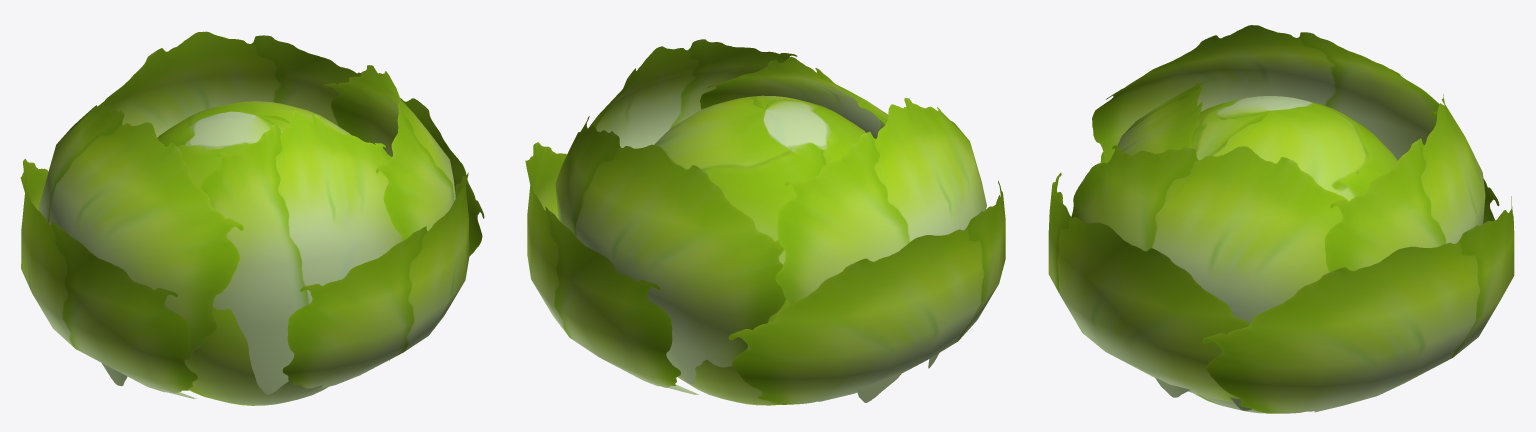
File: SM_Sla.fbx
The picture shows the model from 3 angles, left to right: view 1: azimuth 30°, elevation 25°; view 2: azimuth 150°, elevation 25°; view 3: azimuth 270°, elevation 25°; orthographic projection. The views are drawn at different scales.
Visible parts, largest first — view 1: Plane.012; view 2: Plane.012; view 3: Plane.012.
Boxes of the visible parts, box(x1,y1,x2,y2) form: Plane.012: box(20, 31, 484, 405); Plane.012: box(525, 39, 1005, 405); Plane.012: box(1048, 25, 1514, 413).
Bounding box in the file's own units: 211 × 152 × 201.
